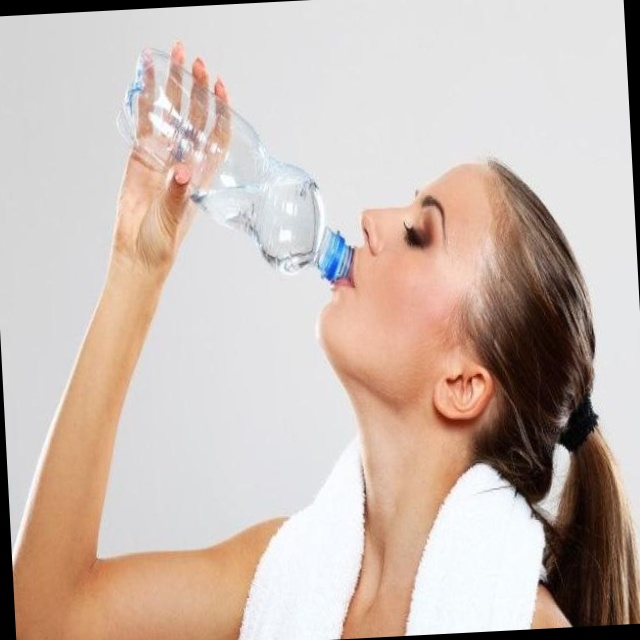Plastic-bottle: (122, 27, 365, 306)
